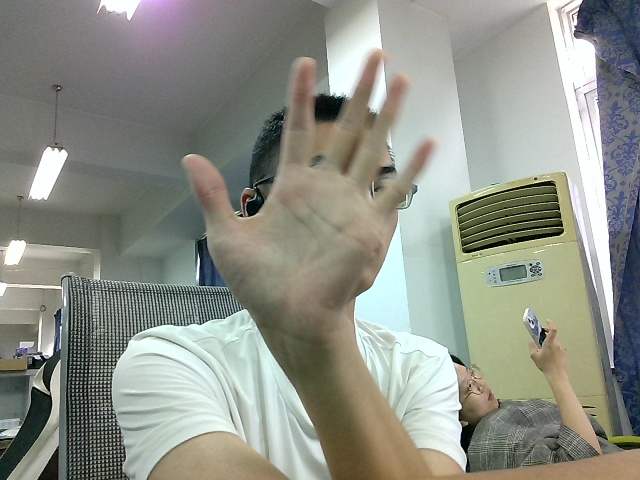paper: (179, 38, 444, 352)
